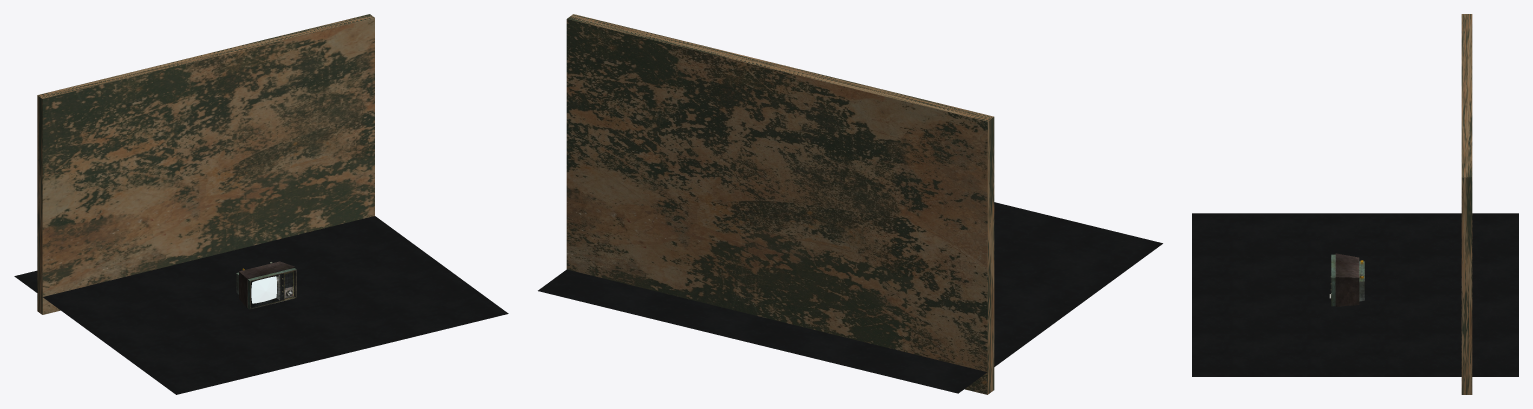
The model's file is television.glb.
3 renders of one model, left to right at view 1: azimuth 30°, elevation 25°; view 2: azimuth 150°, elevation 25°; view 3: azimuth 270°, elevation 25°, orthographic. The views are drawn at different scales.
Visible parts, largest first — view 1: dark rear wall, pitted concrete floor, CRT_television_body, CRT_screen_replaceable; view 2: dark rear wall, pitted concrete floor; view 3: pitted concrete floor, dark rear wall, CRT_television_body.
Part boxes in pixels (box(x1,y1,x2,y2)): dark rear wall: box(37, 14, 374, 314); pitted concrete floor: box(14, 216, 508, 394); CRT_television_body: box(236, 261, 296, 309); CRT_screen_replaceable: box(251, 276, 276, 303); dark rear wall: box(566, 14, 994, 394); pitted concrete floor: box(538, 202, 1162, 393); pitted concrete floor: box(1192, 213, 1518, 376); dark rear wall: box(1461, 14, 1472, 394); CRT_television_body: box(1329, 253, 1364, 306).
Bounding box in the file's own units: 5.8 × 3.6 × 4.9.
Materials: 4 (3 with a texture image).
